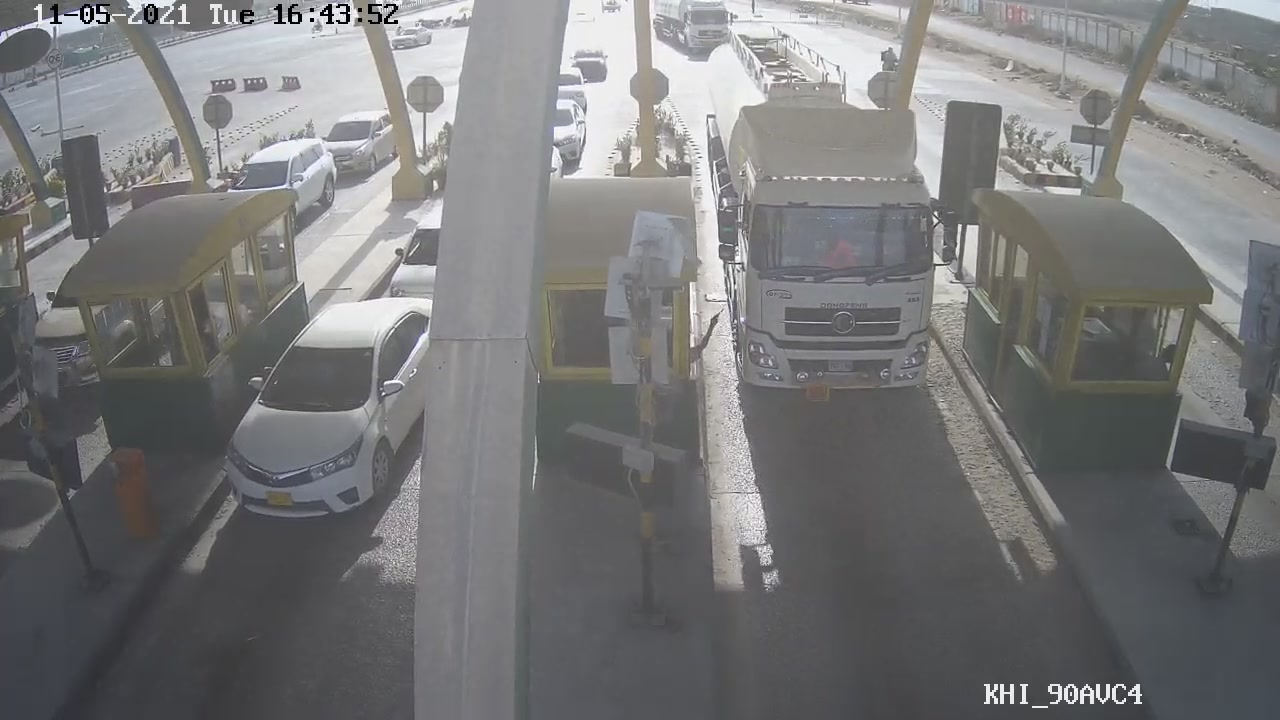F6: (702, 52, 959, 410)
